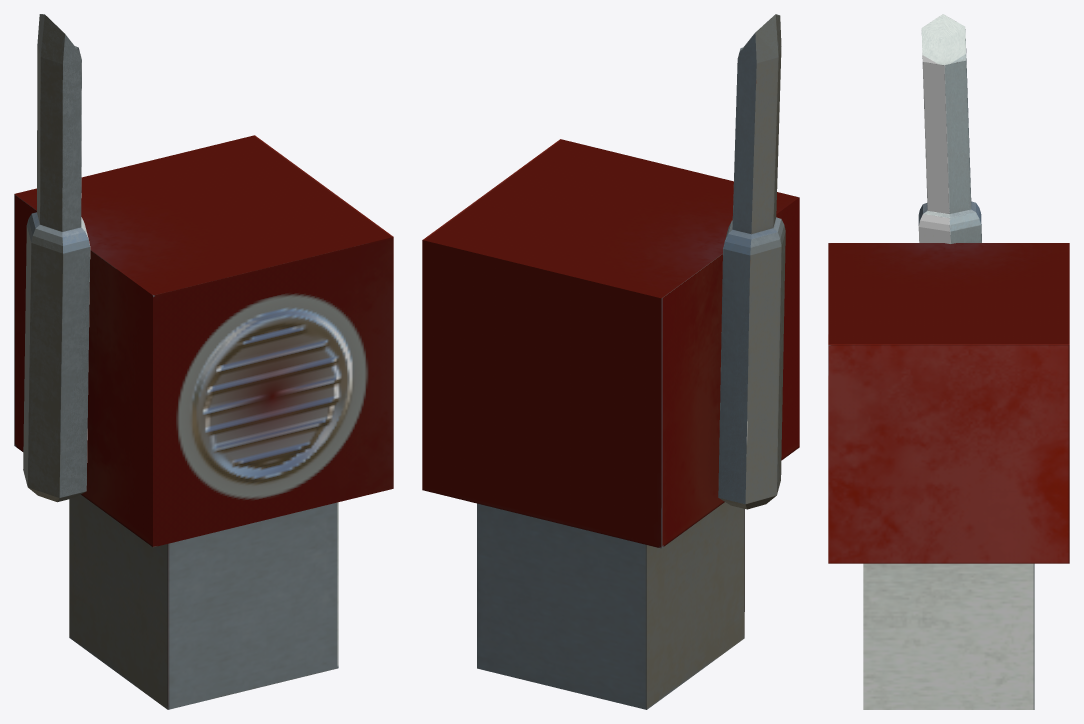
Rendered from L_SHOULDER.obj.
3 renders of one model, left to right at view 1: azimuth 30°, elevation 25°; view 2: azimuth 150°, elevation 25°; view 3: azimuth 270°, elevation 25°, orthographic. The views are drawn at different scales.
Parts seen in each view (by area): view 1: group8 group pasted__pCube53, pasted__pCylinder32 group8 group; view 2: group8 group pasted__pCube53, pasted__pCylinder32 group8 group; view 3: group8 group pasted__pCube53, pasted__pCylinder32 group8 group.
Part boxes in pixels (left/top/right/bottom): group8 group pasted__pCube53: left=14, top=135, right=393, bottom=709; pasted__pCylinder32 group8 group: left=23, top=14, right=90, bottom=502; group8 group pasted__pCube53: left=422, top=139, right=799, bottom=709; pasted__pCylinder32 group8 group: left=718, top=14, right=785, bottom=509; group8 group pasted__pCube53: left=828, top=243, right=1069, bottom=709; pasted__pCylinder32 group8 group: left=918, top=14, right=981, bottom=243.
Bounding box in the file's own units: 1.46 × 3.24 × 1.2.
1 material, 1 textured.
